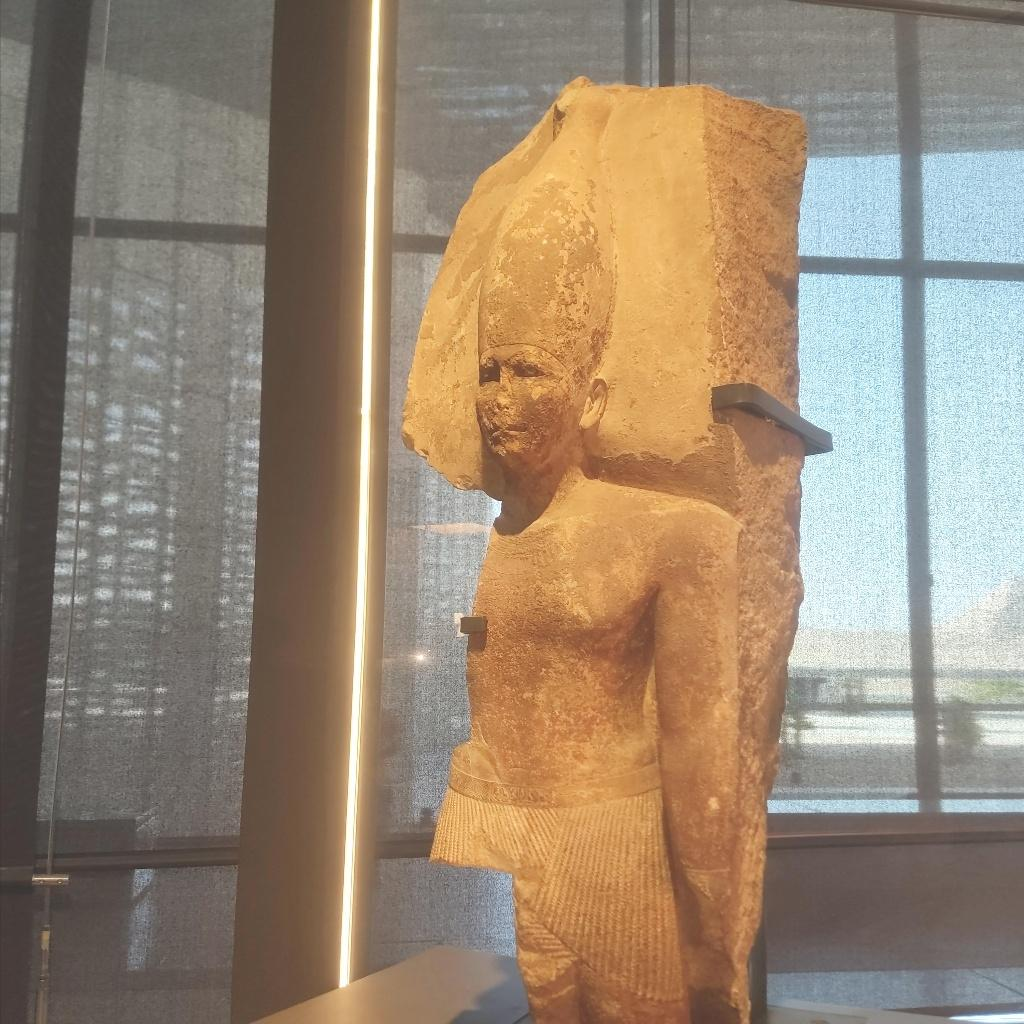Statue of Snefru: (397, 76, 802, 1023)
